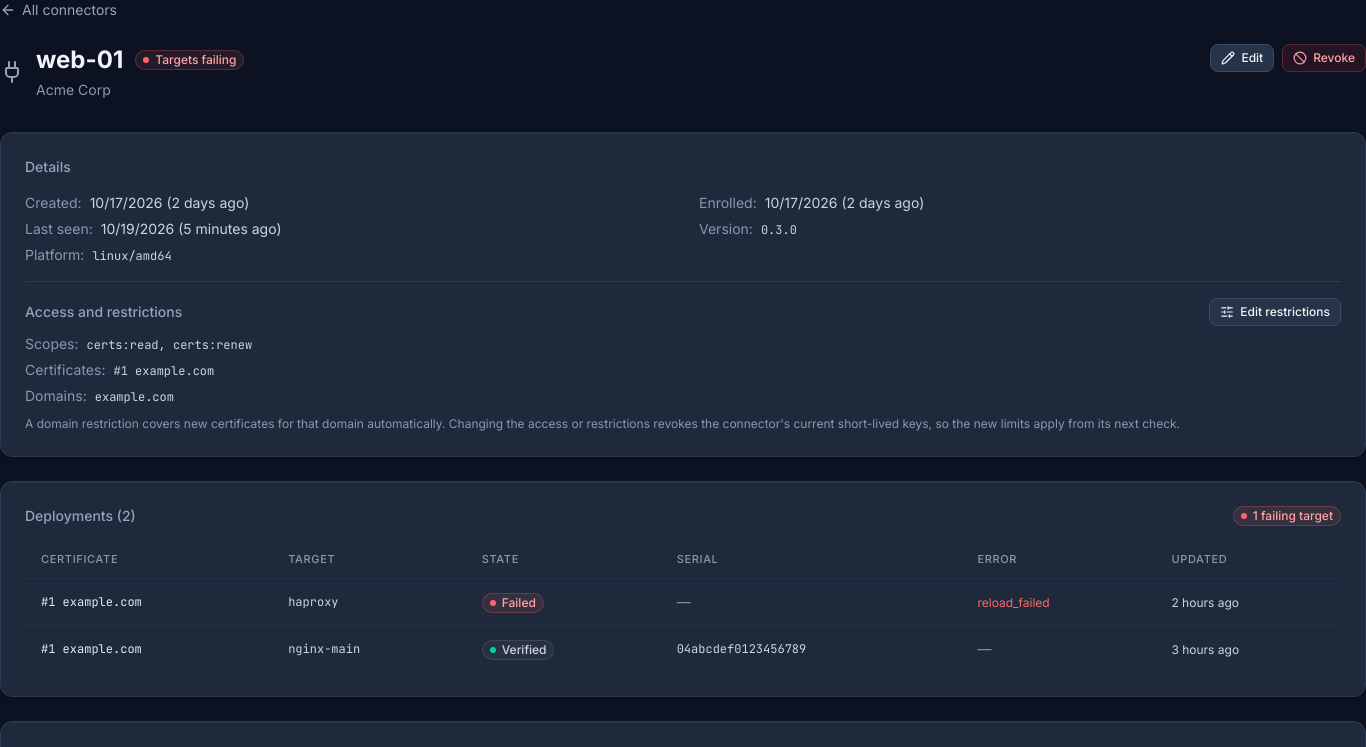
Test: ConnectorDetail › renames and clears the client label
Expected: the heading "web-01" is shown, x1=36 y1=44 x2=123 y2=76
Click the button "Edit": click(1242, 58) x1=1210 y1=44 x2=1274 y2=72
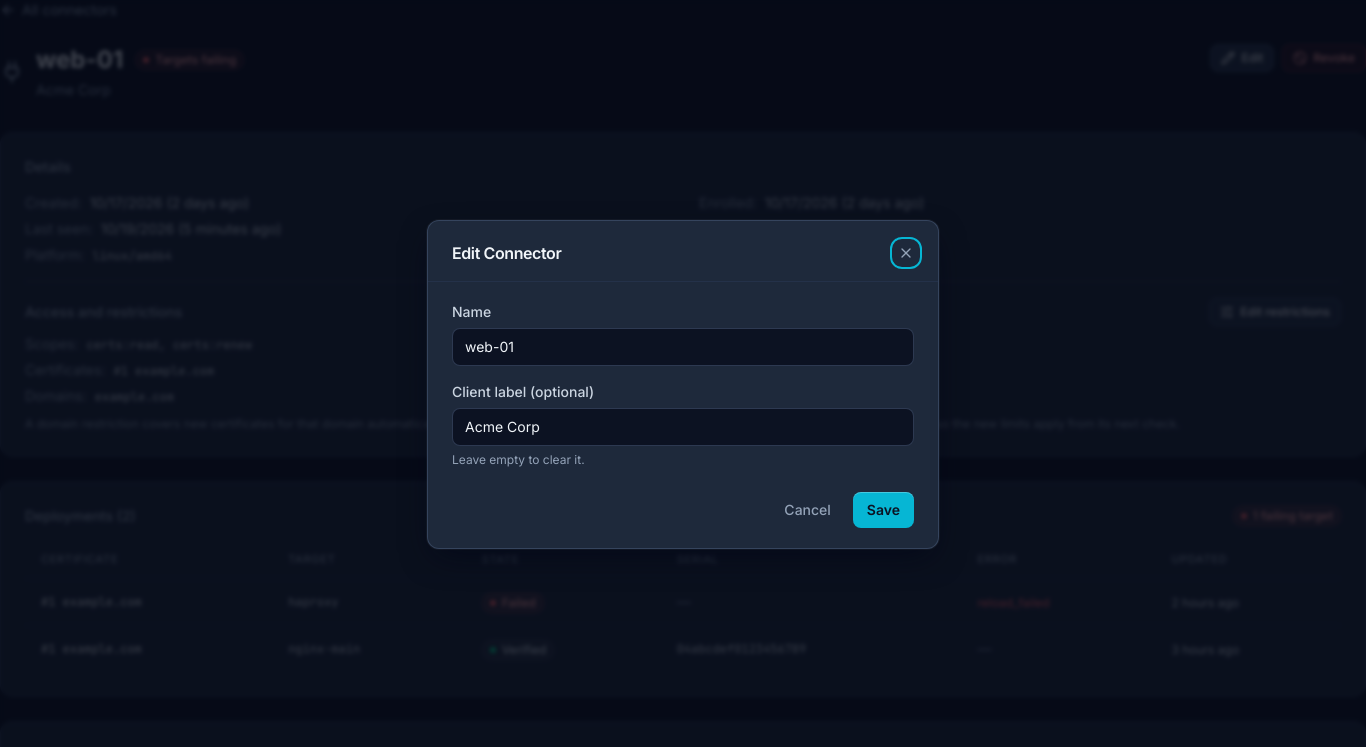
Replace the text in the field labelled "Name" with "web-01b": (683, 346) x1=452 y1=328 x2=914 y2=366
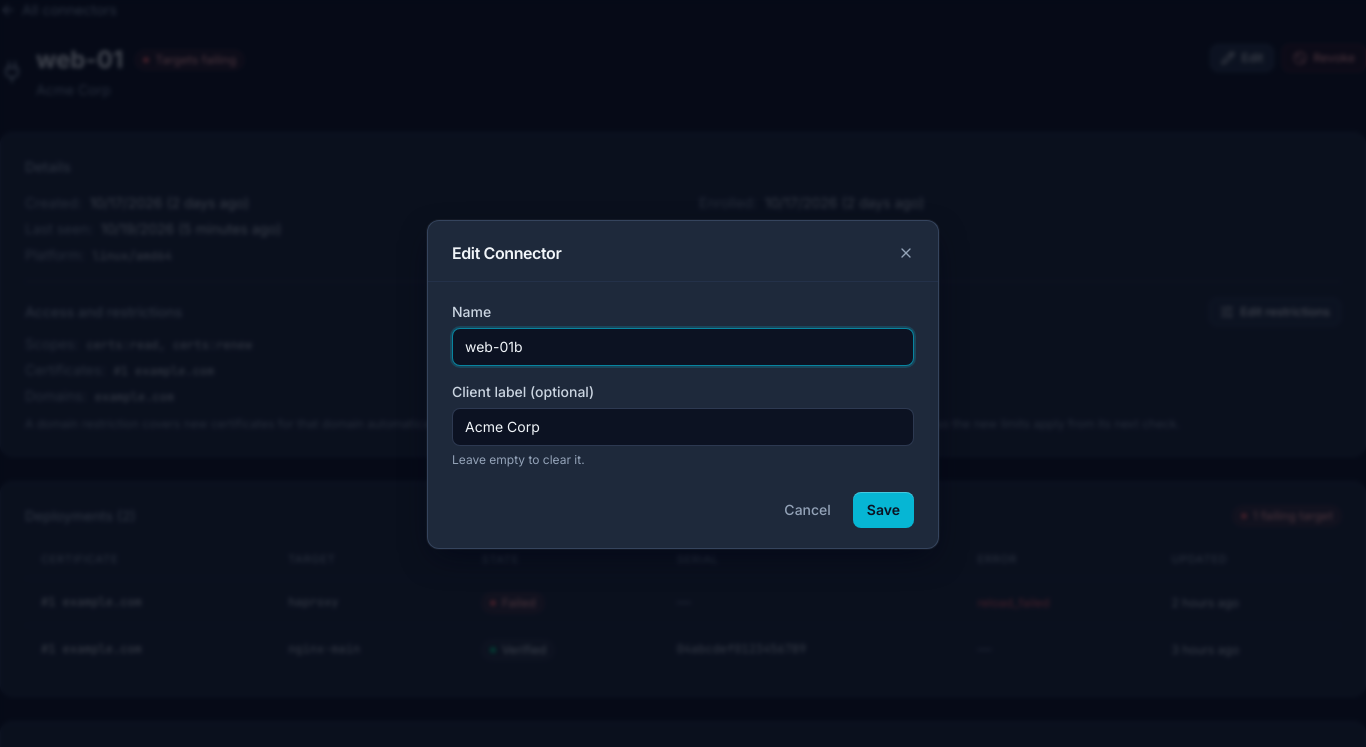
Clear the field labelled "Client label (optional)": (683, 426) x1=452 y1=408 x2=914 y2=446
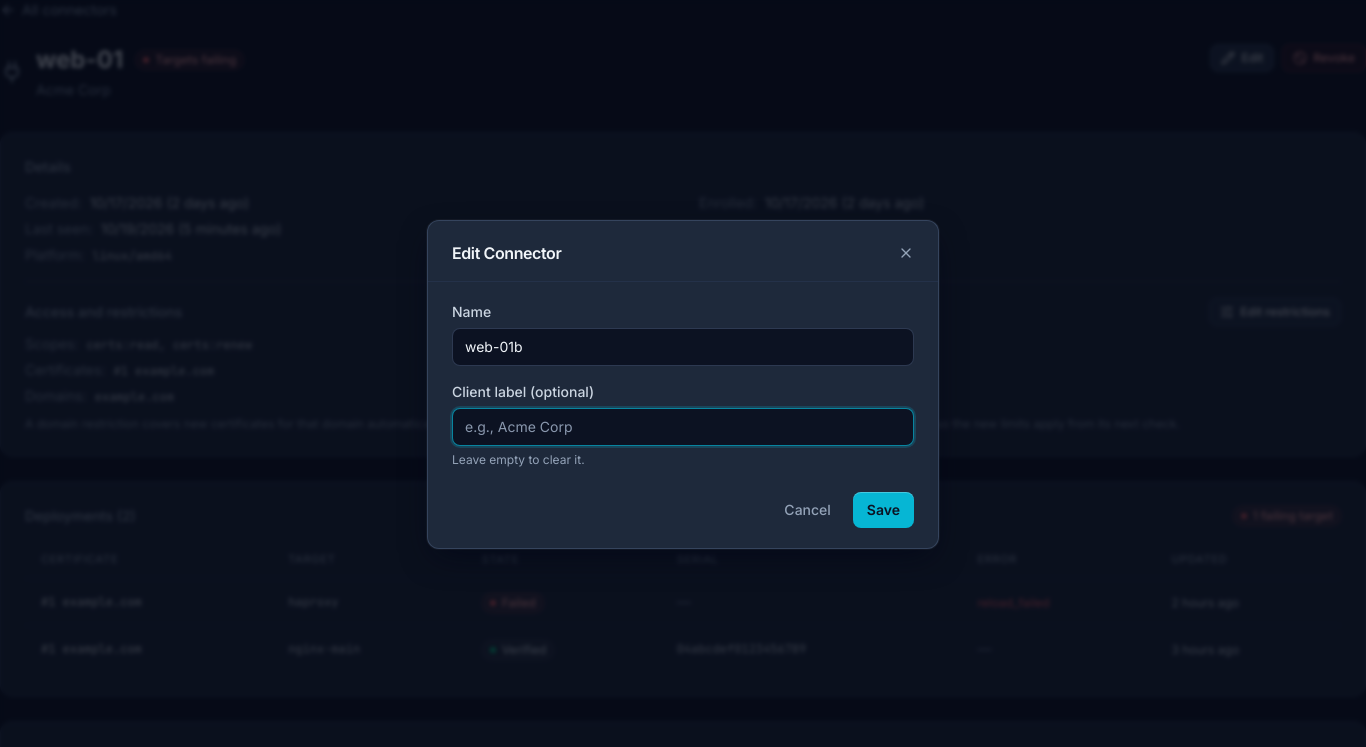
Click the button "Save": click(883, 510) x1=853 y1=492 x2=914 y2=528
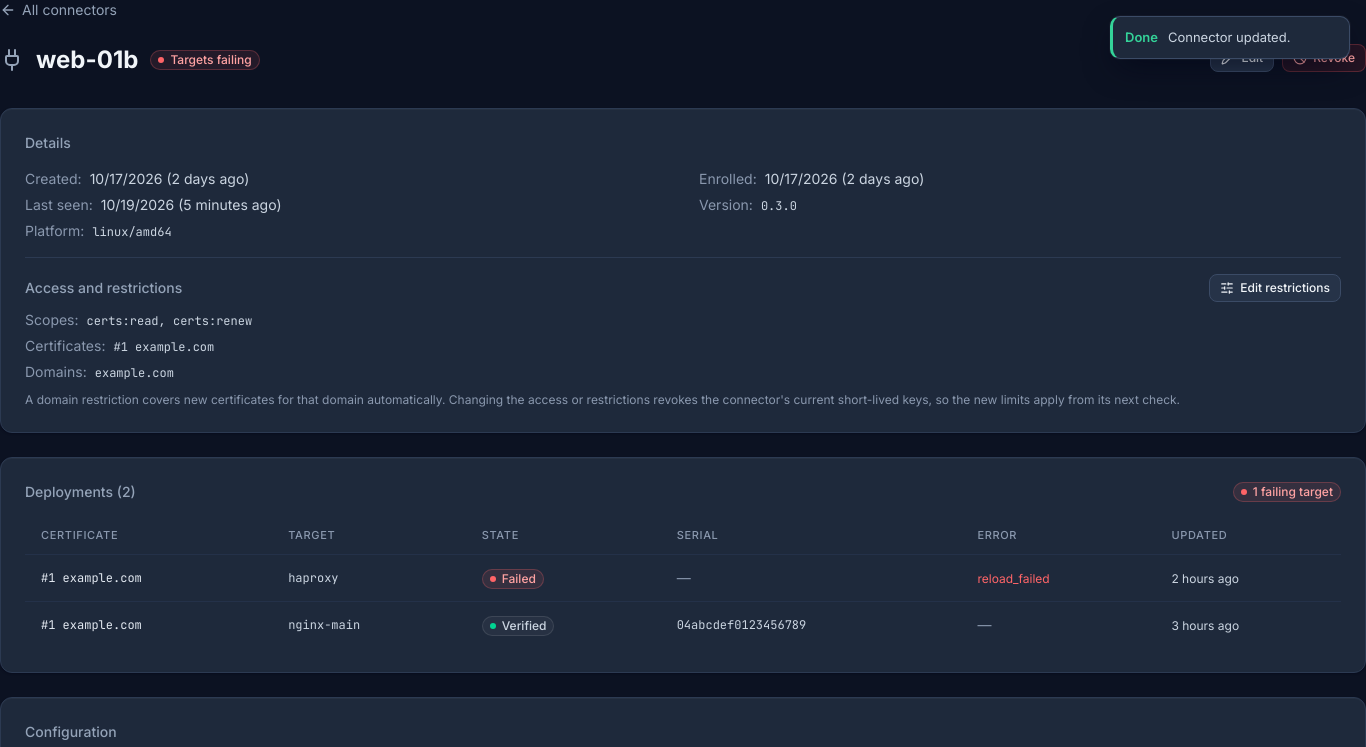
Expected: the text "Acme Corp" is not shown
Expected: the heading "web-01b" is shown, x1=36 y1=44 x2=138 y2=76
